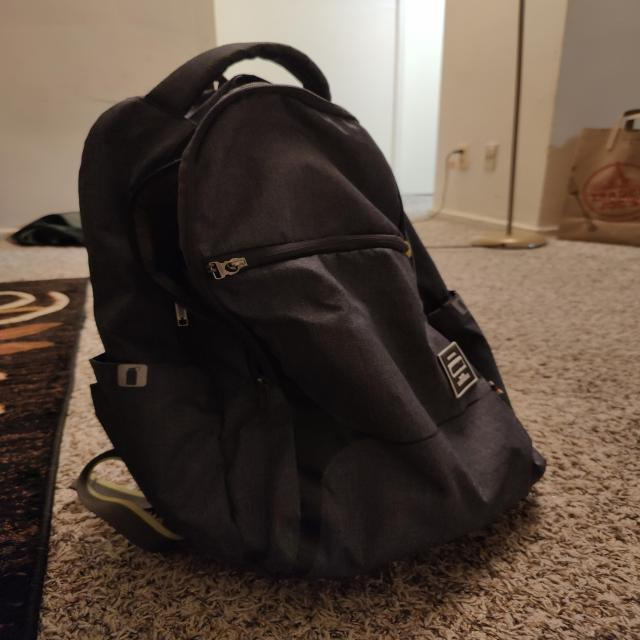bag: (80, 47, 534, 572)
